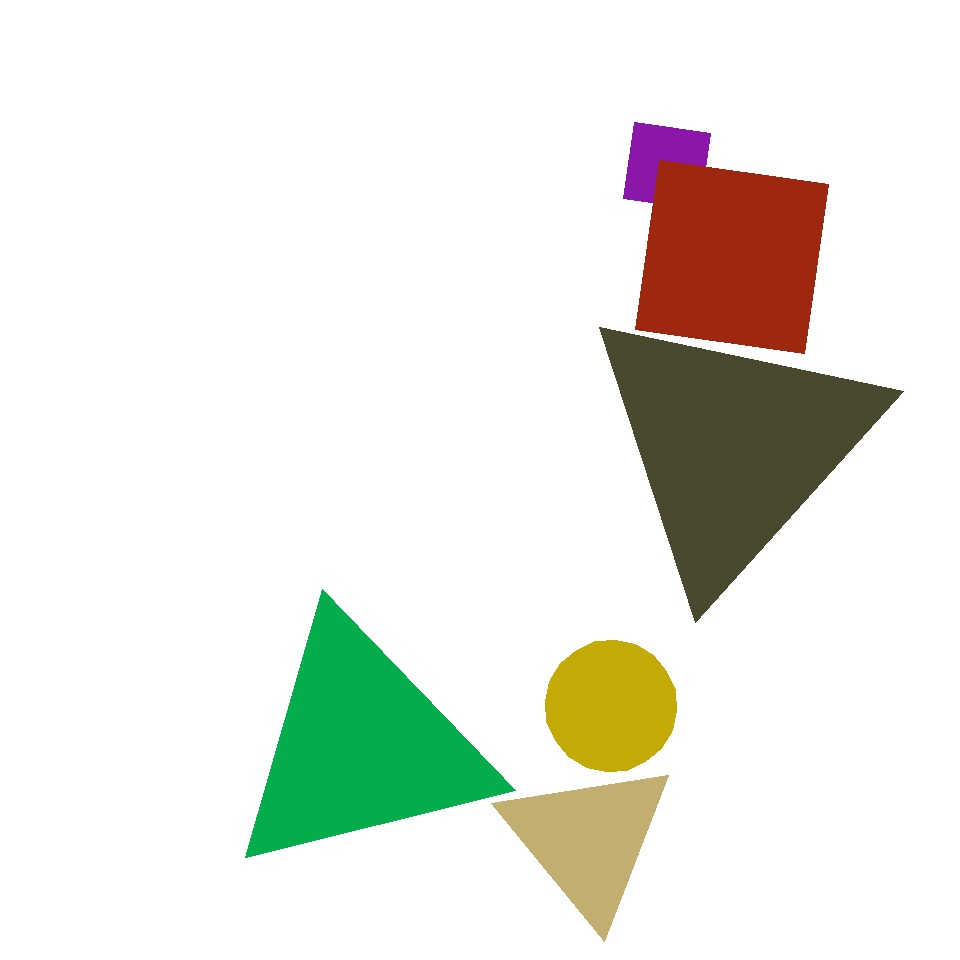circle: (581, 300, 885, 594), (226, 612, 496, 880), (500, 757, 676, 923)
square: (106, 631, 358, 884), (484, 211, 732, 460), (635, 160, 828, 354), (624, 122, 710, 210)
triangle: (85, 538, 378, 830), (546, 640, 676, 772), (848, 316, 952, 420)
